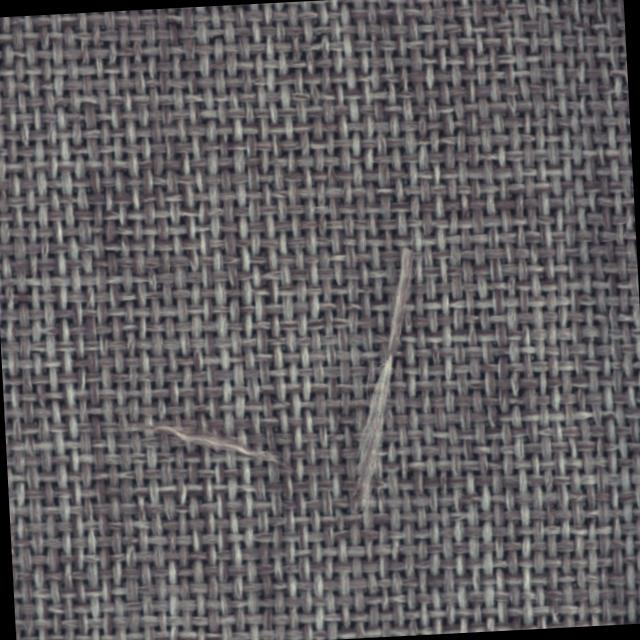Thread: (339, 240, 433, 517), (152, 416, 286, 472)
